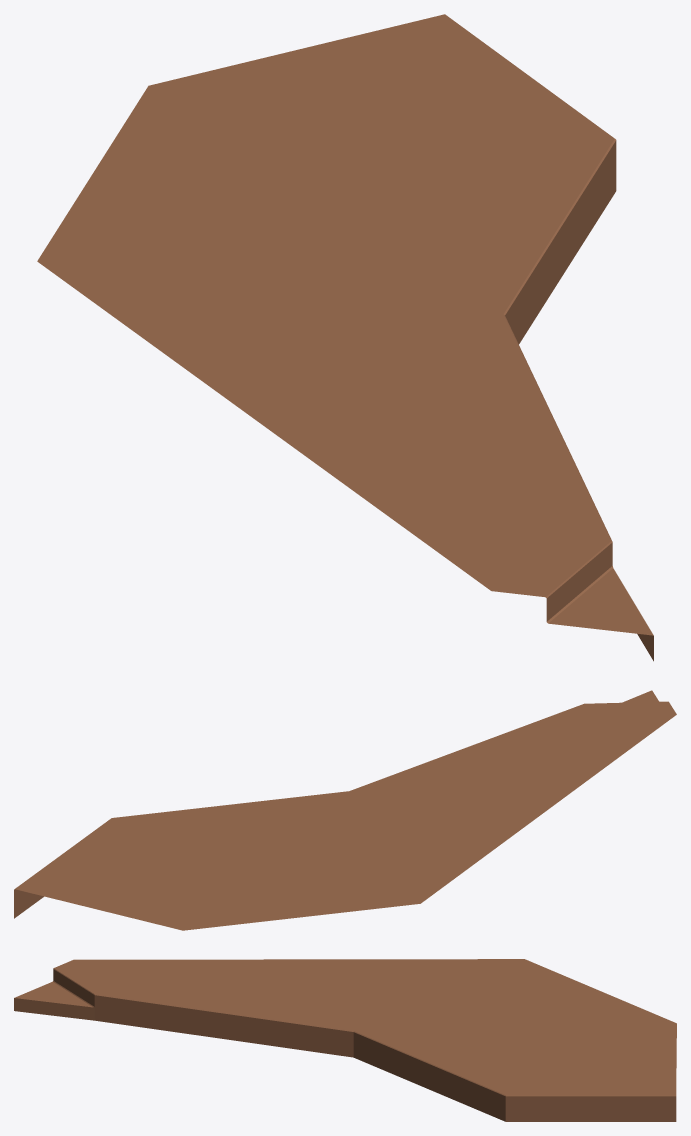
Rendered from Estrade v2.fbx.
3 views of the same model, one above another, from view 1: azimuth 30°, elevation 25°; view 2: azimuth 150°, elevation 25°; view 3: azimuth 270°, elevation 25° (orthographic). The views are drawn at different scales.
Parts seen in each view (by area): view 1: Estrade; view 2: Estrade; view 3: Estrade.
Boxes of the visible parts, x1,y1,x2,y2 form: Estrade: (37, 14, 653, 661); Estrade: (14, 690, 676, 930); Estrade: (14, 959, 676, 1121).
Bounding box in the file's own units: 449 × 40 × 920.
